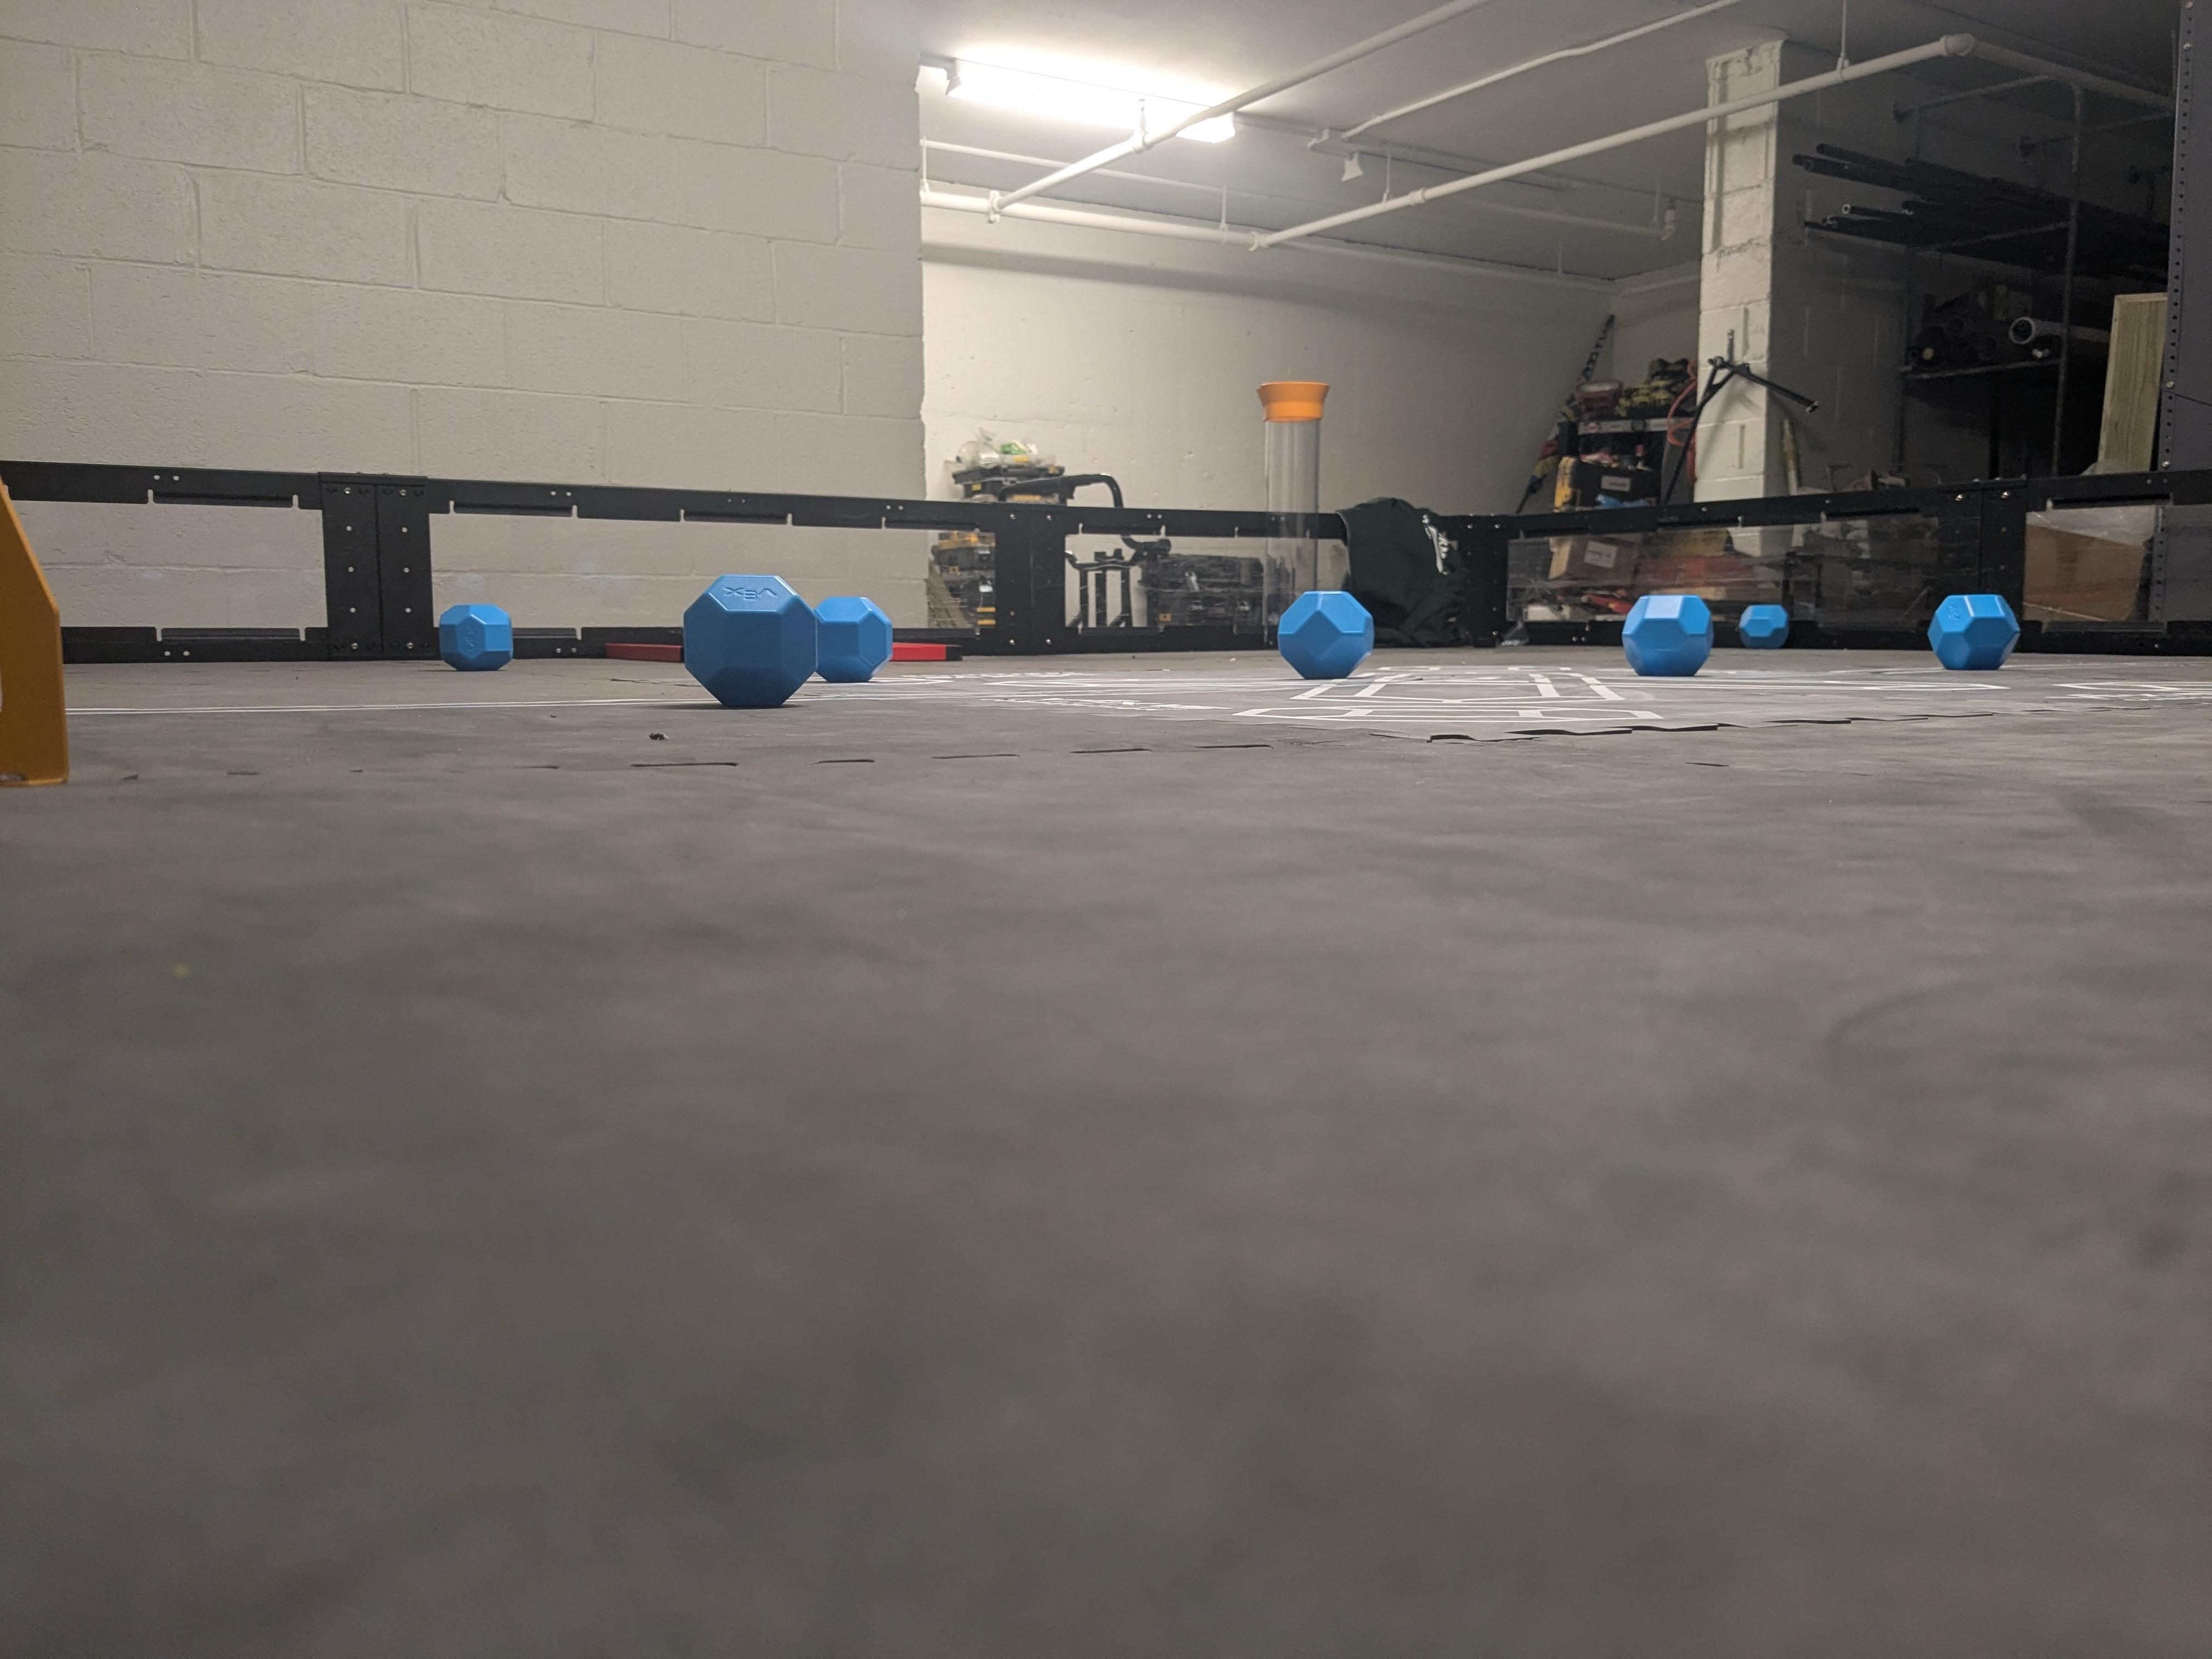Vex-Pieces-BLUE: (686, 580, 892, 699), (1278, 592, 1376, 678), (1932, 592, 2017, 671), (1625, 598, 1707, 671), (439, 606, 510, 669), (1738, 603, 1789, 648)
